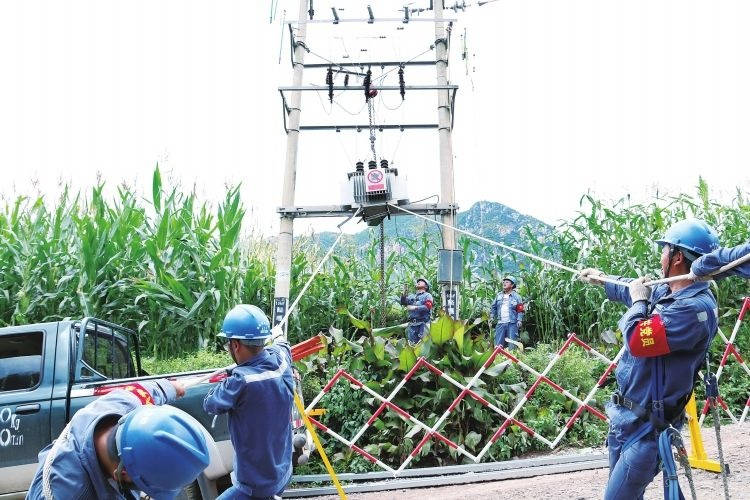blue: (101, 403, 211, 493), (653, 214, 725, 294), (215, 301, 276, 365), (500, 274, 517, 293), (415, 276, 431, 293)
